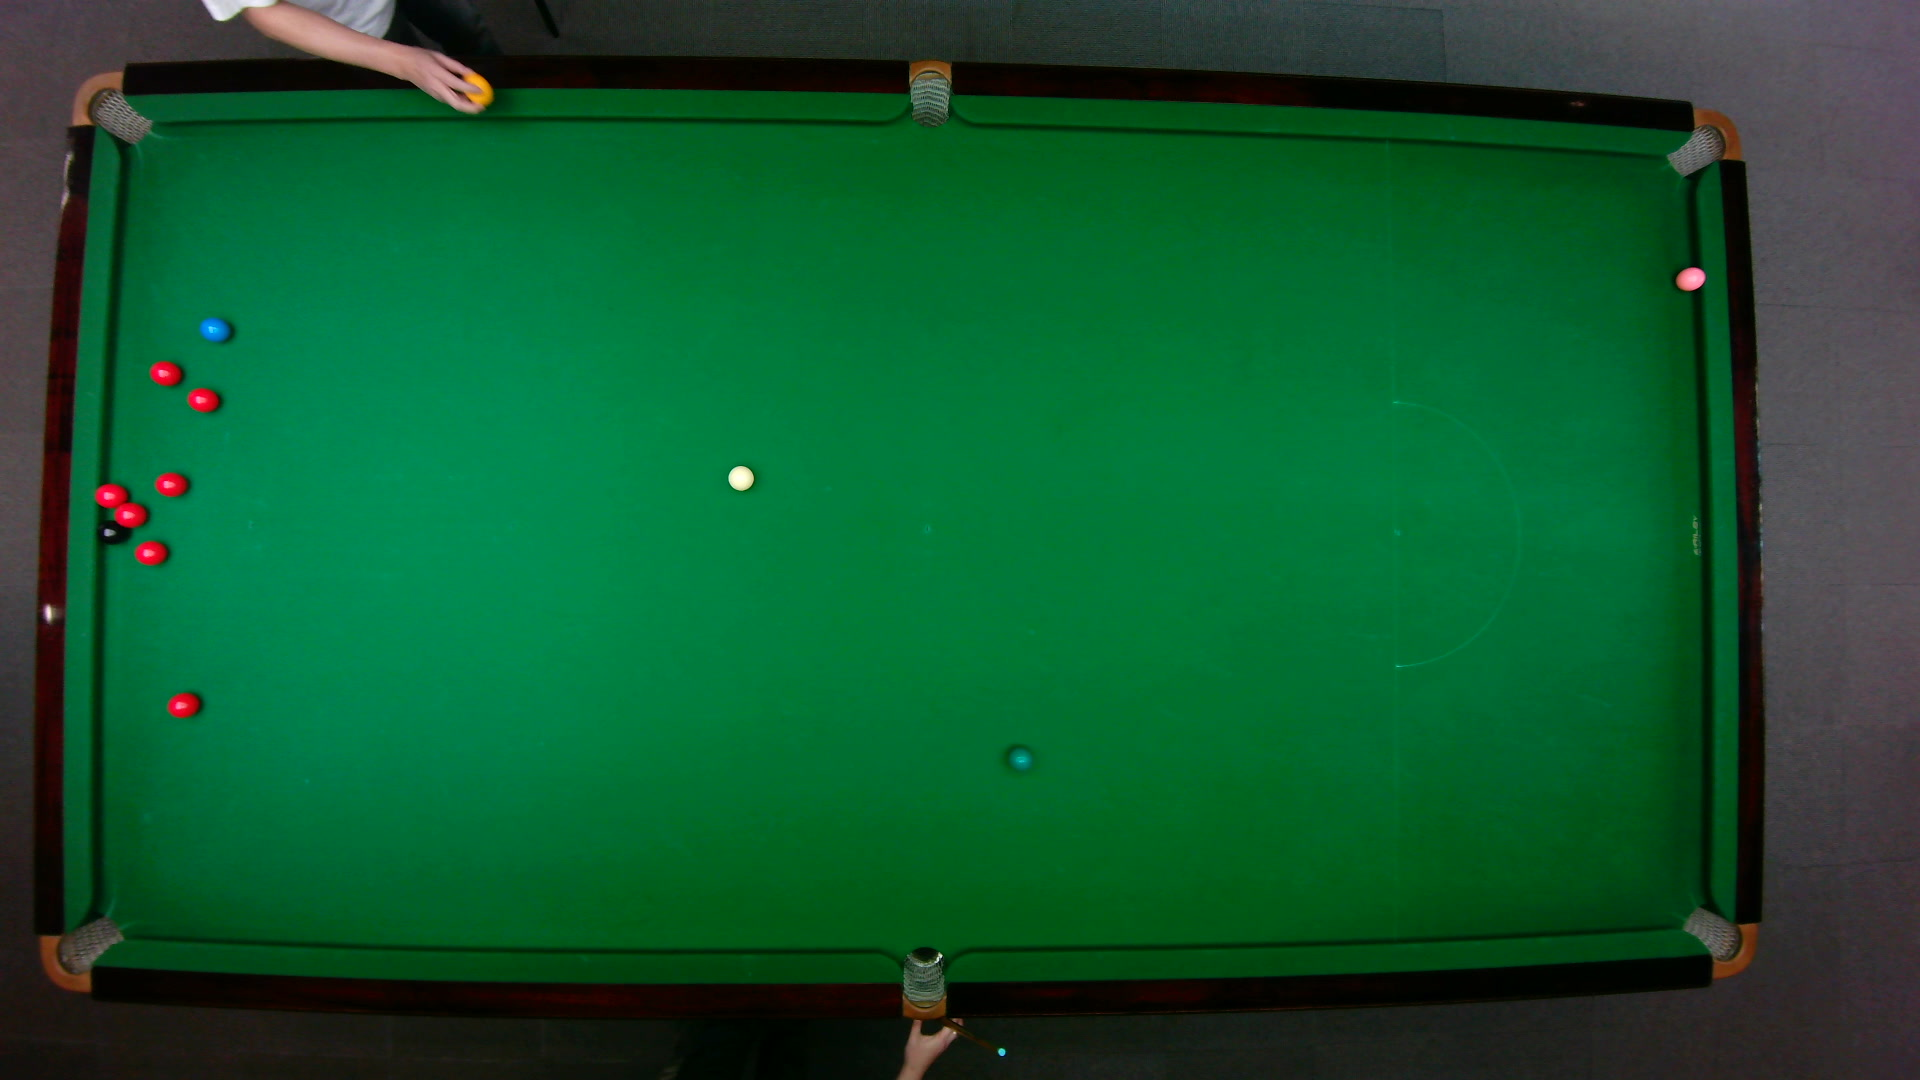bag: (37, 913, 125, 992), (69, 69, 153, 145), (1679, 905, 1756, 978), (1663, 107, 1741, 177), (901, 944, 945, 1021), (909, 57, 949, 128)
black: (96, 521, 123, 543)
blue: (198, 315, 231, 342)
green: (1005, 744, 1033, 771)
pink: (1673, 264, 1706, 291)
red: (109, 500, 148, 527), (153, 469, 189, 497), (92, 480, 128, 508), (165, 690, 200, 717), (148, 359, 182, 386), (185, 385, 220, 411), (133, 539, 167, 566)
white: (725, 463, 756, 491)
zone: (1391, 400, 1520, 669)
